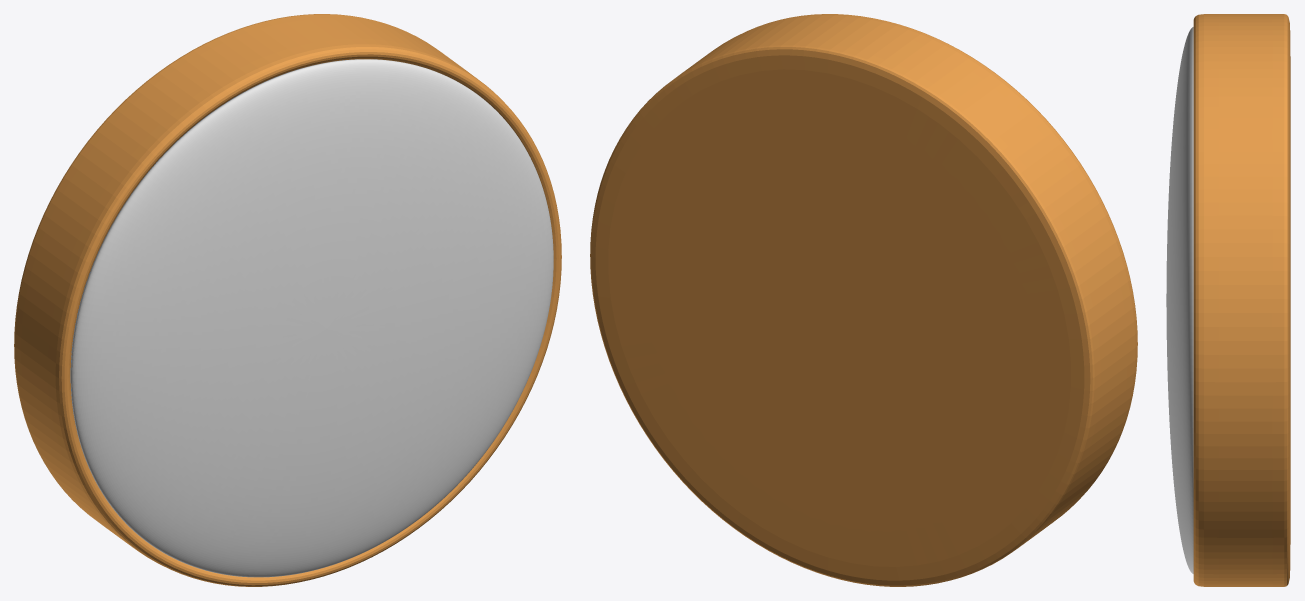
The model's file is clock-transformed.glb.
The picture shows the model from 3 angles, left to right: view 1: azimuth 30°, elevation 25°; view 2: azimuth 150°, elevation 25°; view 3: azimuth 270°, elevation 25°; orthographic projection.
Visible parts, largest first — view 1: glass, clockShell; view 2: clockShell; view 3: clockShell, glass.
Part boxes in pixels (x1=…): glass: x1=71, y1=59, x2=553, y2=577; clockShell: x1=14, y1=14, x2=561, y2=586; clockShell: x1=590, y1=14, x2=1137, y2=586; clockShell: x1=1193, y1=14, x2=1290, y2=586; glass: x1=1166, y1=27, x2=1193, y2=573.
Bounding box in the file's own units: 3.87 × 3.87 × 0.838.
